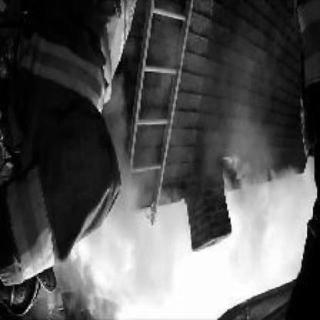Smoke: (100, 225, 163, 299)
